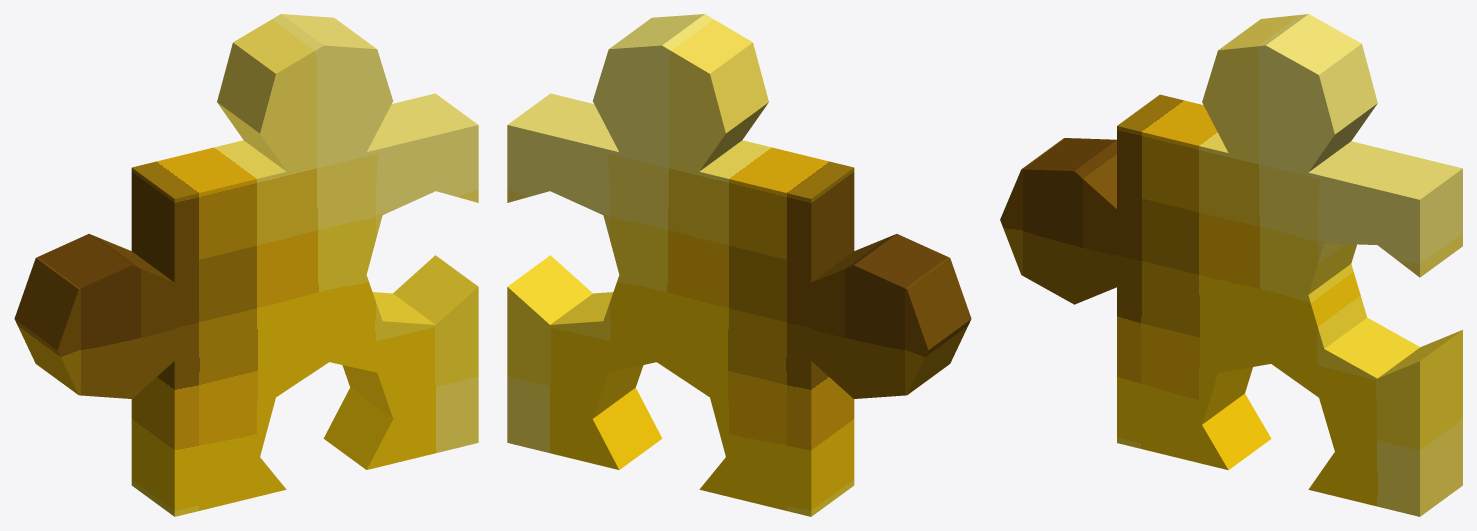
Rendered from Jiggy.obj.
The picture shows the model from 3 angles, left to right: view 1: azimuth 30°, elevation 25°; view 2: azimuth 150°, elevation 25°; view 3: azimuth 330°, elevation 25°; orthographic projection.
Visible parts, largest first — view 1: e.008; view 2: e.008; view 3: e.008.
Boxes of the visible parts, left/top/right/bottom form: e.008: left=14, top=14, right=478, bottom=516; e.008: left=507, top=14, right=971, bottom=516; e.008: left=1000, top=14, right=1462, bottom=516.
Bounding box in the file's own units: 2.42 × 2.39 × 0.4288.
Materials: 1 (1 with a texture image).
